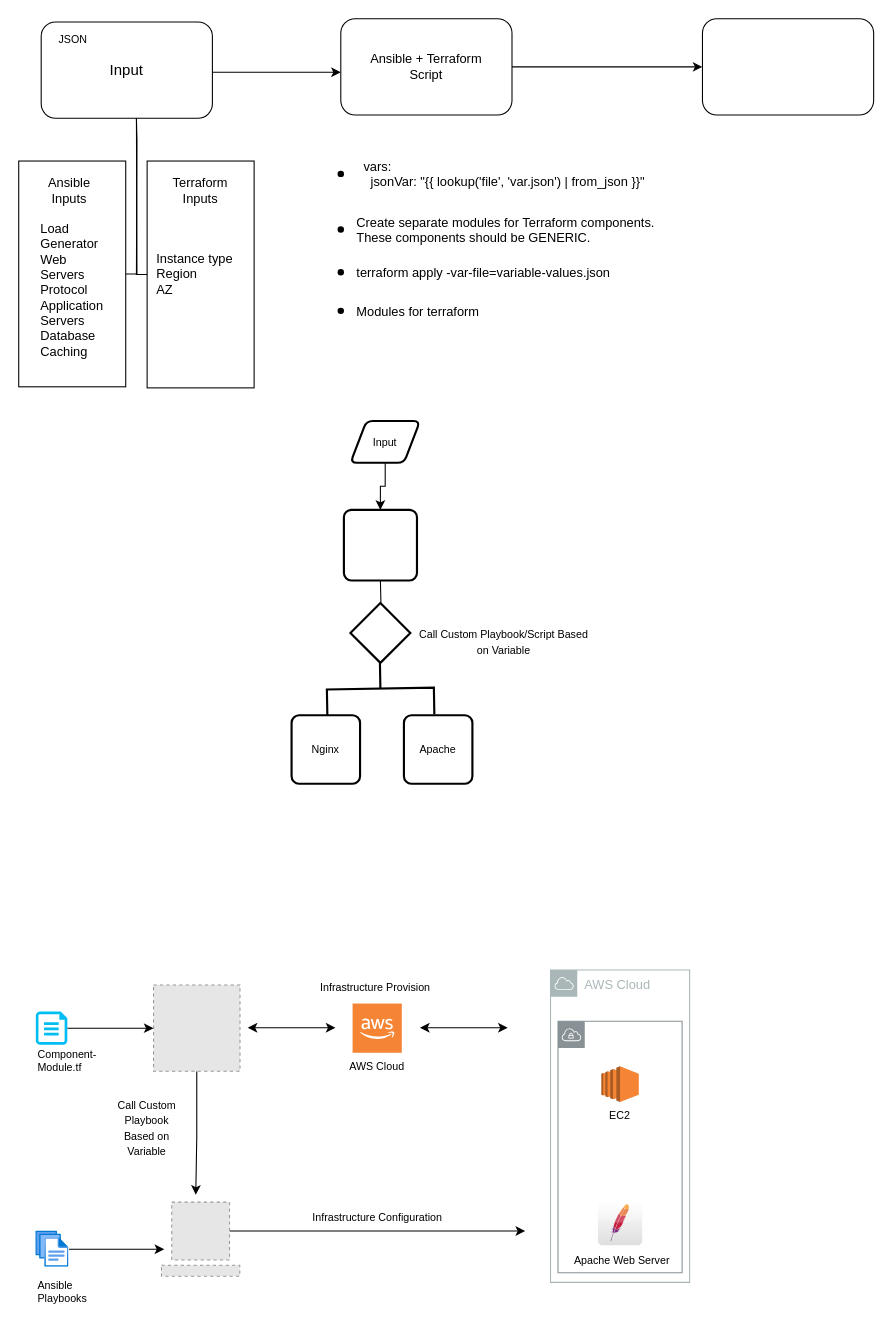
This 892x1327 diagram has some shape labels left out. Grey dashed boxes stand in for pictures. Here are the shapes that lost their labels. From the top down, the box of each, then its label:
(701, 18, 874, 115): Desired State
(342, 508, 418, 581): Module
(557, 1020, 682, 1273): VPC
